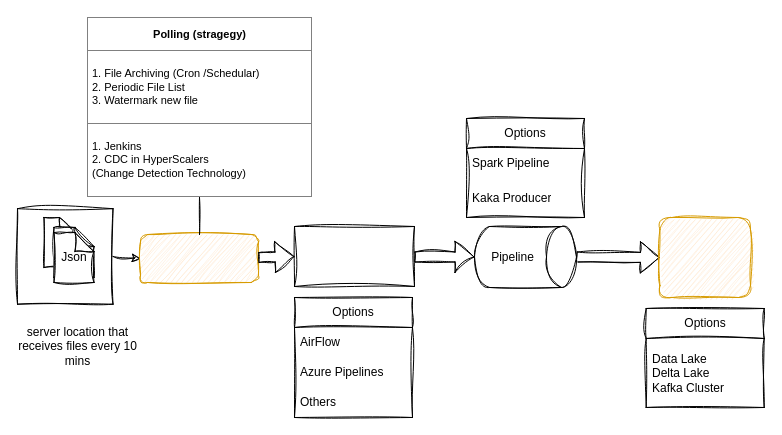
The diagram is 782 pixels wide and 435 high, and some of its shapes have lost their labels. Here are the shapes that lost their labels. From the top down, the centre of each, then its label:
point 199,258: Input Folder
point 354,256: Worflow Management
point 704,257: Lake
